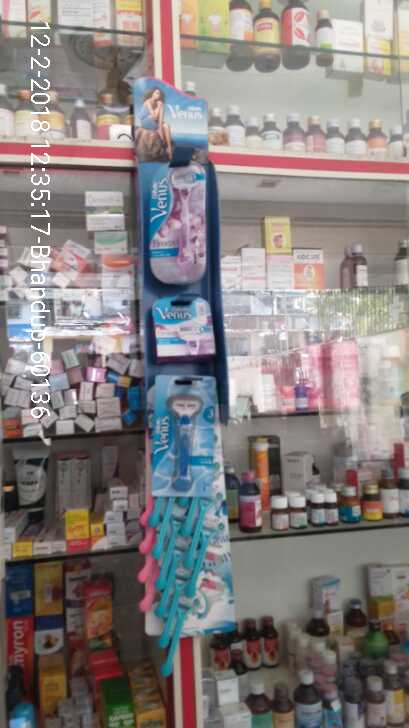beauty: (151, 372, 224, 495), (150, 163, 214, 279), (151, 296, 216, 357)
